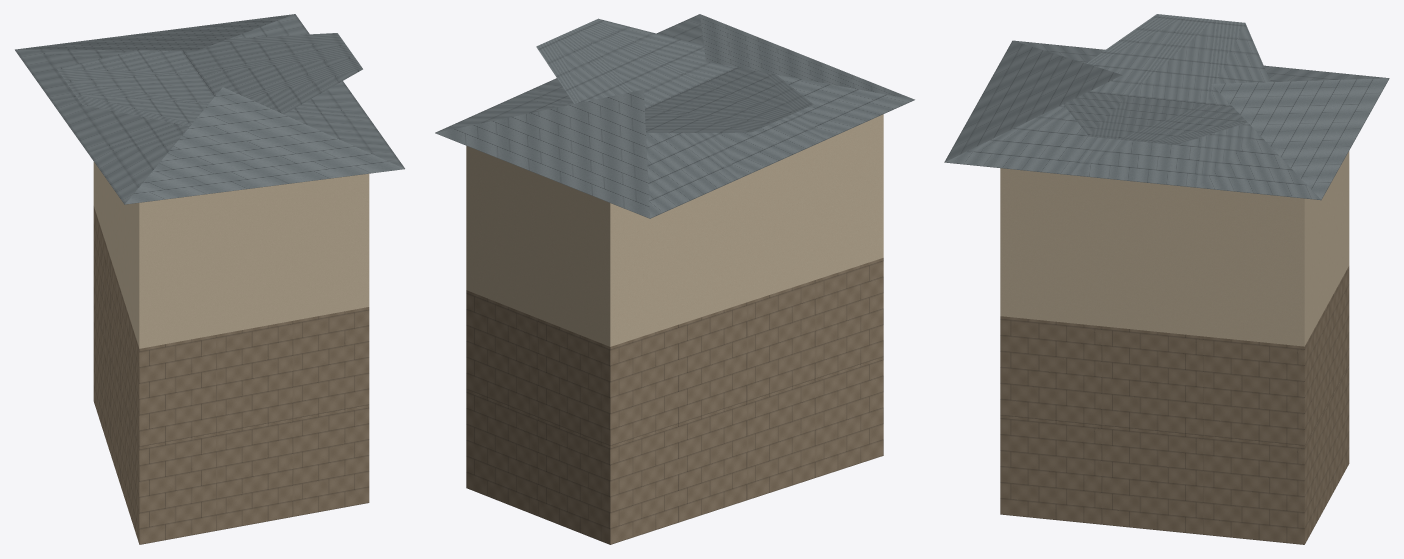
The model's file is bld_c1_10_487.gltf.
3 renders of one model, left to right at view 1: azimuth 30°, elevation 25°; view 2: azimuth 150°, elevation 25°; view 3: azimuth 270°, elevation 25°, orthographic.
Visible parts, largest first — view 1: bld_c1_10_487; view 2: bld_c1_10_487; view 3: bld_c1_10_487.
Part boxes in pixels (x1,y1,x2,y2): bld_c1_10_487: (15,14,404,544); bld_c1_10_487: (435,14,914,544); bld_c1_10_487: (944,14,1389,544).
Bounding box in the file's own units: 8.37 × 9.7 × 9.86.
3 materials, 3 textured.
